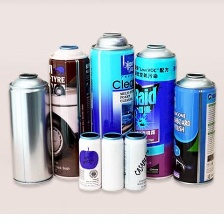aerosol_cans: (44, 41, 95, 183), (131, 38, 179, 181), (88, 29, 135, 174), (4, 69, 56, 187), (170, 69, 219, 186)
can: (120, 128, 149, 194), (100, 131, 128, 193), (76, 129, 103, 193)
